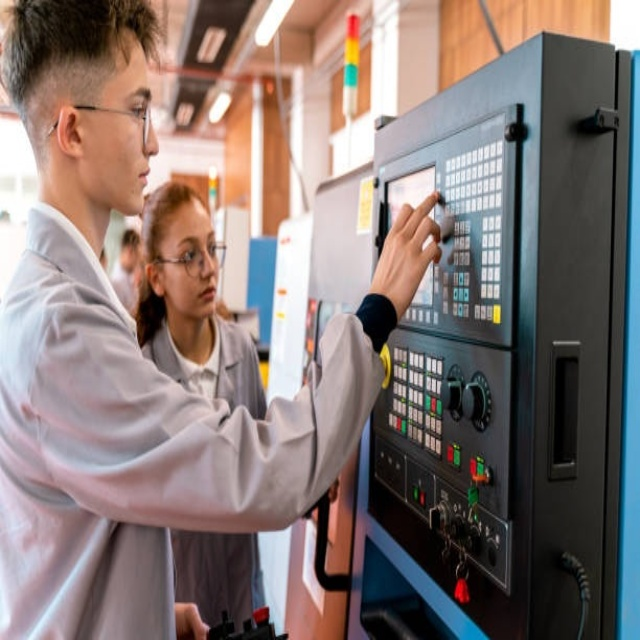Gafas: (49, 102, 153, 152), (151, 243, 227, 278)
Sin_guantes: (368, 191, 449, 314)
Sin_mascara: (115, 155, 154, 212), (189, 276, 219, 317)
